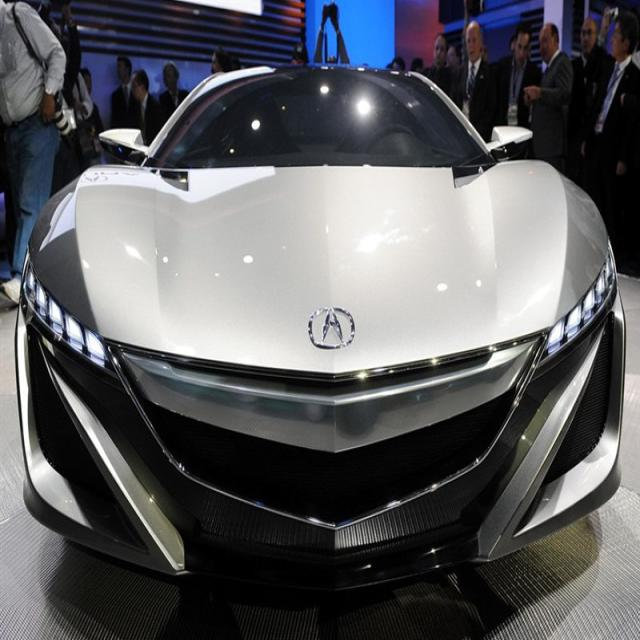front_bumper: (14, 298, 628, 606)
front_glass: (146, 66, 497, 172)
front_left_side_light: (537, 234, 617, 364)
front_left_side_mirror: (487, 121, 536, 157)
front_right_side_light: (19, 248, 118, 376)
front_right_side_mirror: (95, 123, 150, 160)
